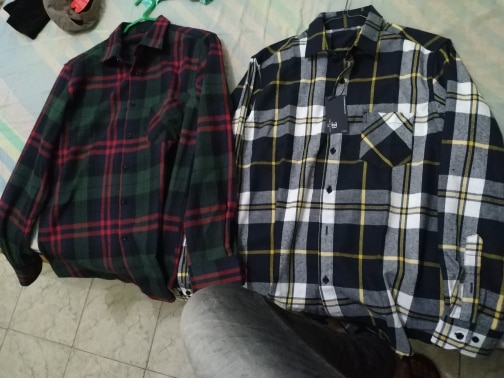shirts: (211, 7, 504, 363), (7, 18, 237, 295)
